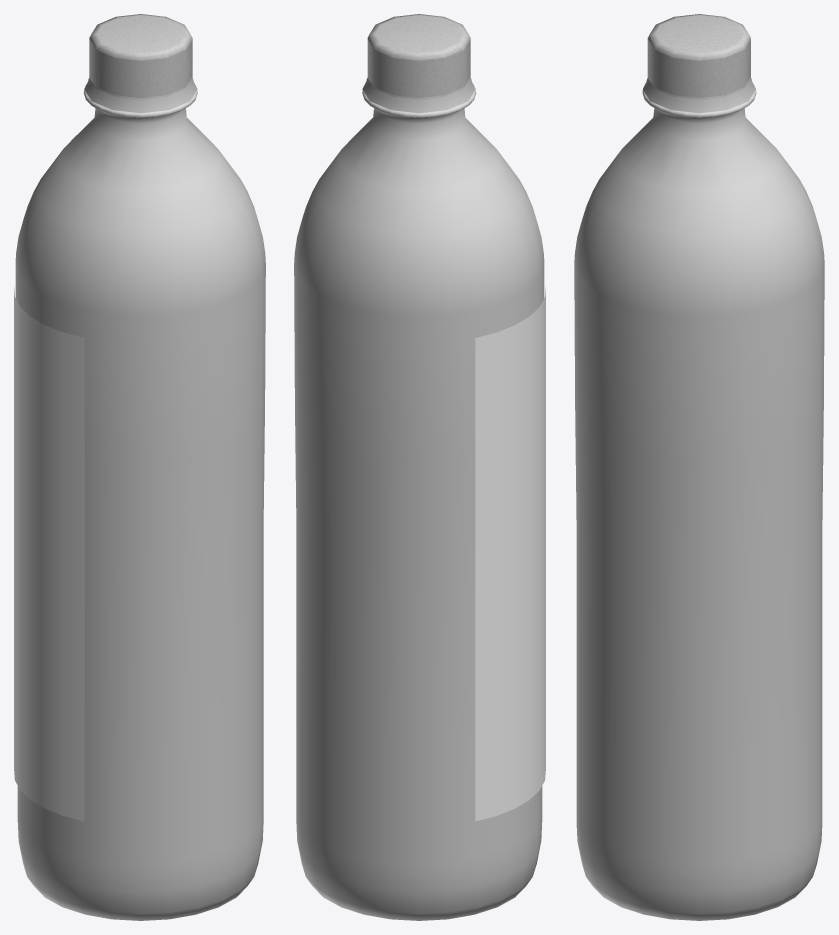
File: bottle 2.glb
The picture shows the model from 3 angles, left to right: view 1: azimuth 30°, elevation 25°; view 2: azimuth 150°, elevation 25°; view 3: azimuth 270°, elevation 25°; orthographic projection.
Parts seen in each view (by area): view 1: Glass beer bottle.001, Cylinder.003, Cylinder.004, Cylinder.005; view 2: Glass beer bottle.001, Cylinder.003, Cylinder.004, Cylinder.005; view 3: Glass beer bottle.001, Cylinder.004, Cylinder.005.
Boxes of the visible parts, box(x1,y1,x2,y2) form: Glass beer bottle.001: box(15, 80, 265, 920); Cylinder.003: box(14, 287, 84, 821); Cylinder.004: box(89, 14, 192, 98); Cylinder.005: box(84, 77, 197, 113); Glass beer bottle.001: box(294, 80, 544, 920); Cylinder.003: box(475, 287, 545, 821); Cylinder.004: box(367, 14, 470, 98); Cylinder.005: box(362, 77, 475, 113); Glass beer bottle.001: box(574, 82, 824, 920); Cylinder.004: box(647, 14, 750, 98); Cylinder.005: box(642, 77, 755, 113).
Bounding box in the file's own units: 7.84 × 28.96 × 7.79.
4 materials, 1 textured.
